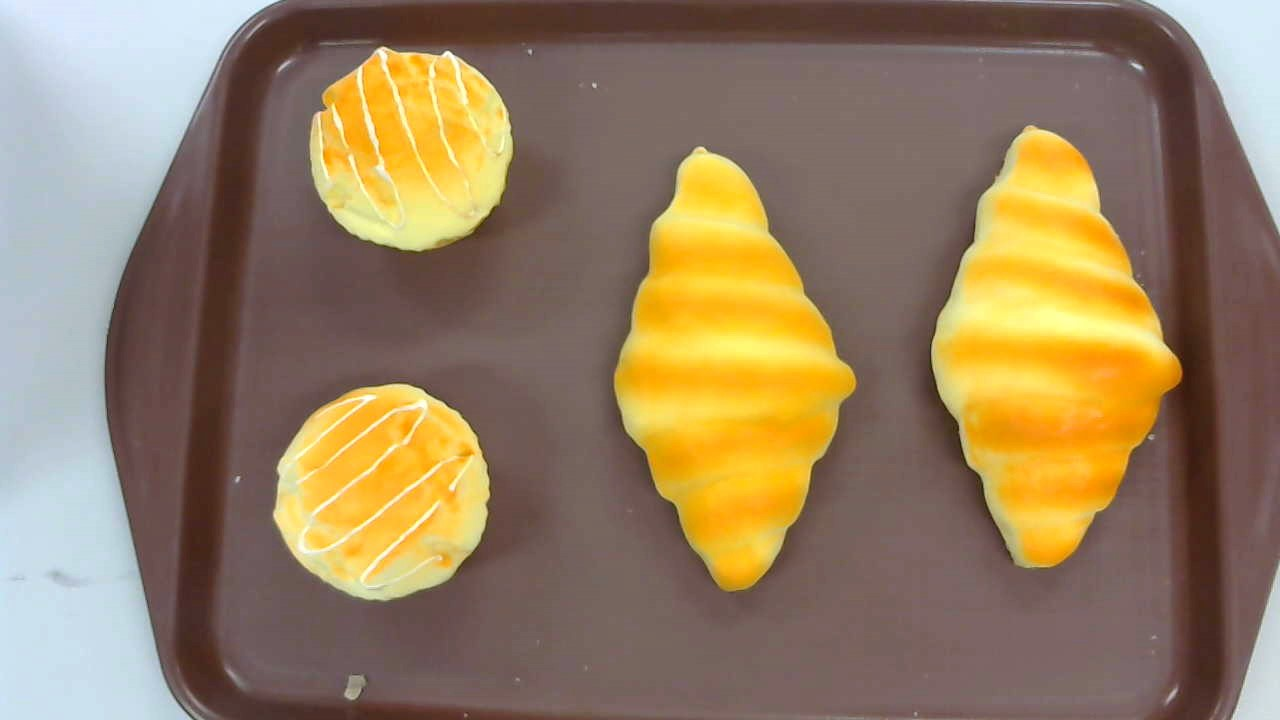croissant: (931, 123, 1182, 570), (613, 147, 858, 592)
cupcake: (272, 384, 490, 603), (310, 47, 513, 253)
